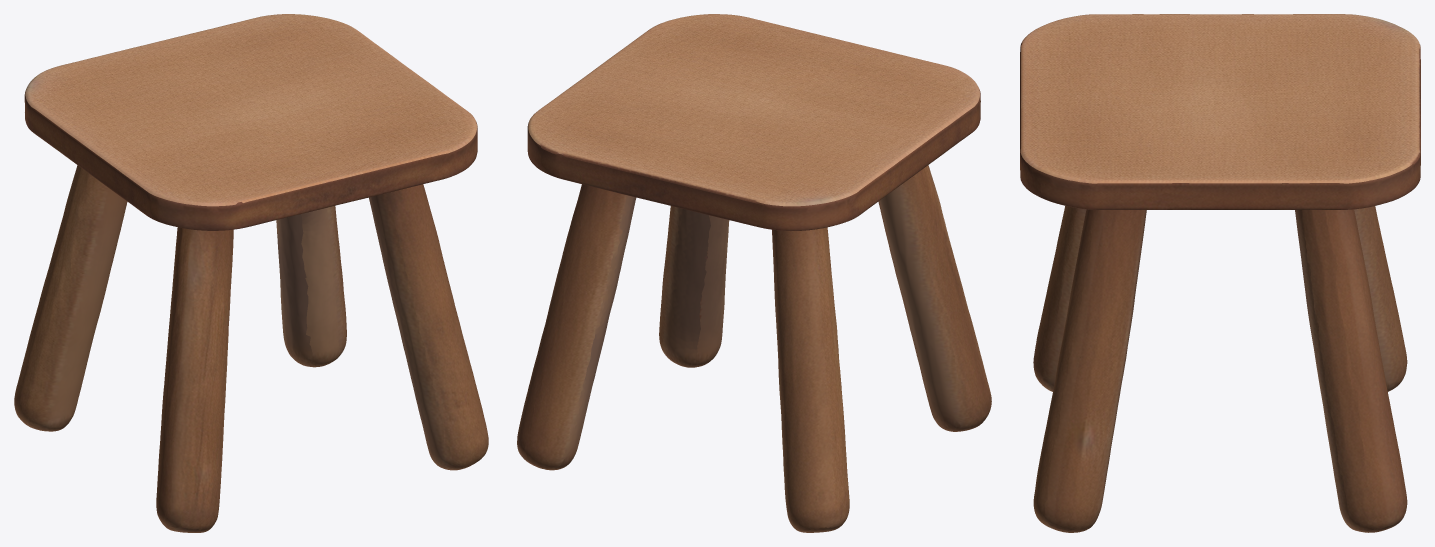
Rendered from stool__stool#1.glb.
3 renders of one model, left to right at view 1: azimuth 30°, elevation 25°; view 2: azimuth 150°, elevation 25°; view 3: azimuth 270°, elevation 25°, orthographic. The views are drawn at different scales.
Parts seen in each view (by area): view 1: tmpct0ifw5o.ply; view 2: tmpct0ifw5o.ply; view 3: tmpct0ifw5o.ply.
Part boxes in pixels (x1=…): tmpct0ifw5o.ply: x1=14, y1=14, x2=488, y2=532; tmpct0ifw5o.ply: x1=517, y1=14, x2=991, y2=532; tmpct0ifw5o.ply: x1=1020, y1=14, x2=1420, y2=532.
Size of the model in its own units: 1.99 by 1.99 by 1.99.
Materials: 1 (1 with a texture image).
